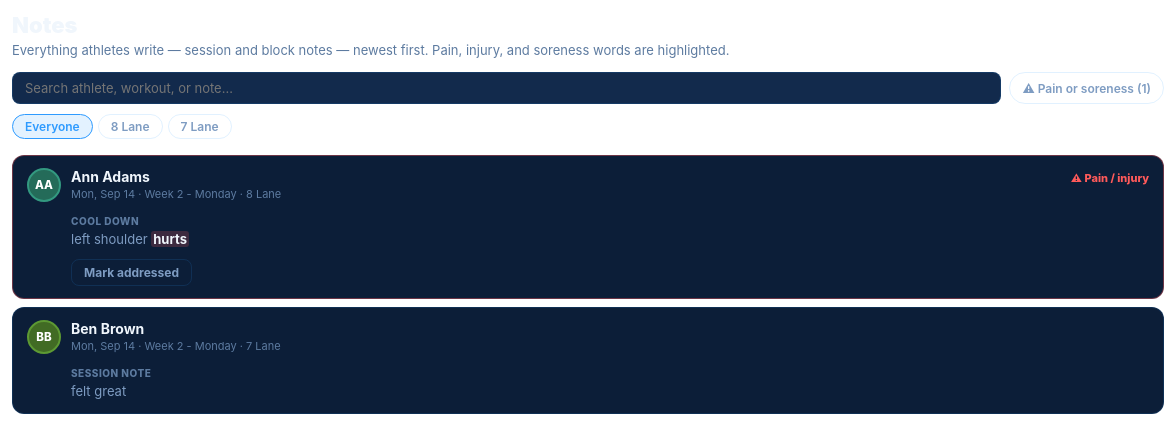
Test: Notes tab › "Pain or soreness" narrows to flagged notes, and search finds note text
Click the button "⚠ Pain or soreness (1)": click(1087, 88) [1009,72,1164,104]
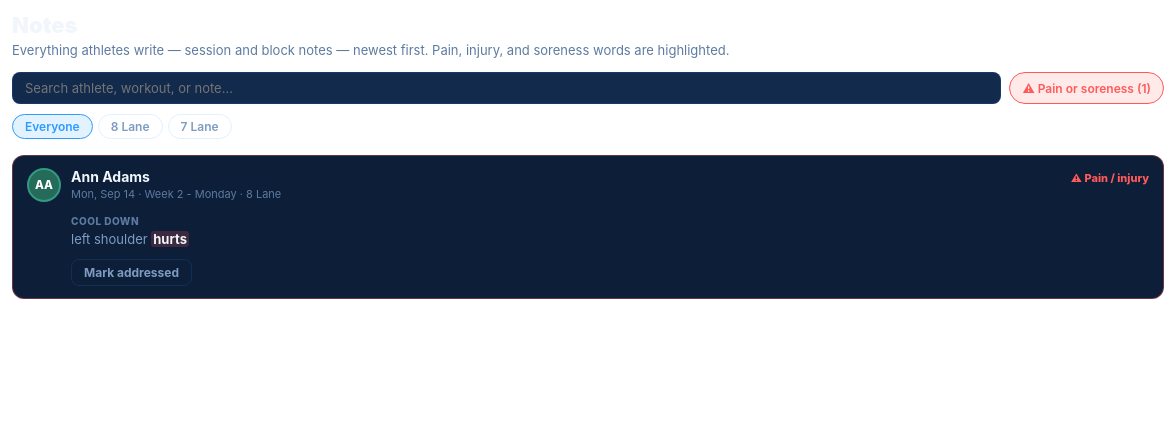
Now the number of elements with test id "note-card" is 1, box [12,155,1164,299]
Click the button "⚠ Pain or soreness (1)": click(1087, 88) [1009,72,1164,104]
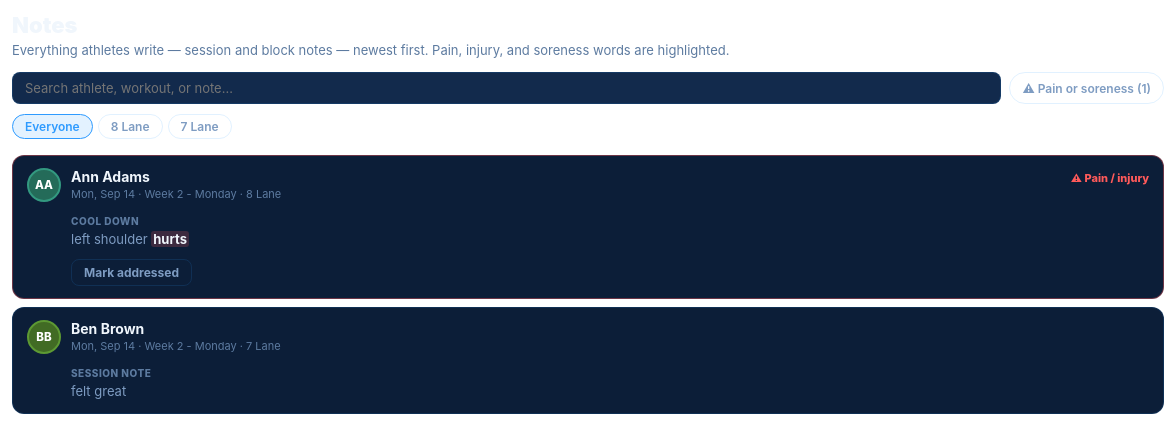
In the field named "Search notes": (507, 88) [12,72,1001,104], type "great"
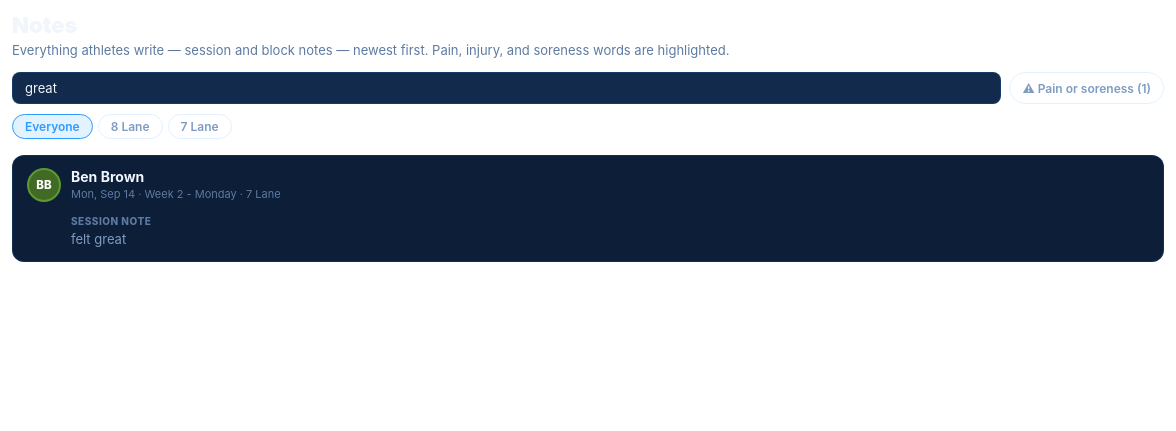
Now the number of elements with test id "note-card" is 1, box [12,155,1164,262]
